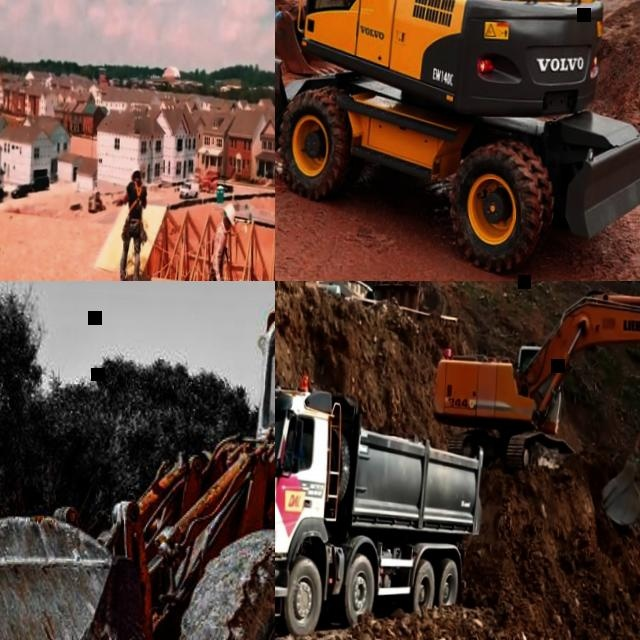Hardhat: (223, 202, 235, 224), (131, 164, 141, 178)
NO-Mask: (225, 222, 230, 229)
NO-Safety Vest: (127, 181, 144, 218)
Person: (118, 162, 147, 281), (206, 200, 235, 281), (287, 430, 306, 465)
machinery: (275, 0, 640, 275), (0, 281, 275, 640), (275, 387, 484, 640), (428, 281, 640, 528), (199, 171, 218, 192)
vehicle: (179, 179, 200, 198), (30, 174, 50, 192), (11, 182, 30, 198)
